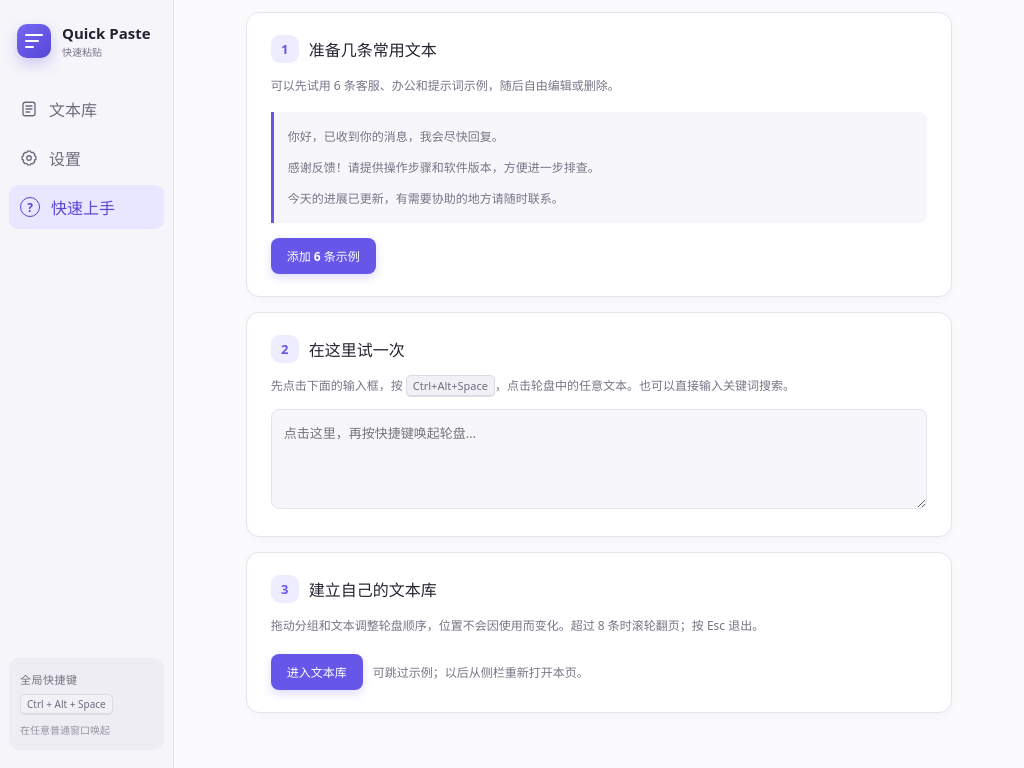
Scenario: 导入与上手引导 › 新用户看到练习页，可跳过示例进入空文本库
This screenshot has width=1024, height=768.
(page scrolled)
Check: the text box named "练习输入框" is shown, box [271, 409, 927, 509]
Click the button "进入文本库": coordinates (317, 672) [271, 654, 363, 690]
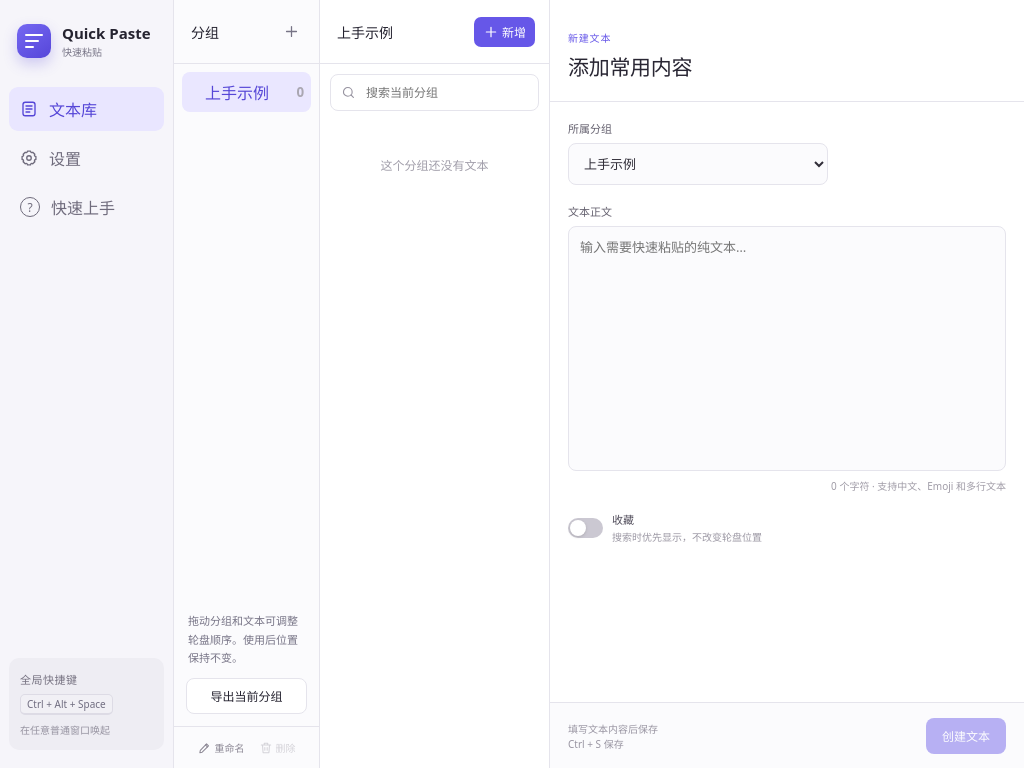
Check: the button "创建文本" is shown, box [926, 718, 1006, 754]
